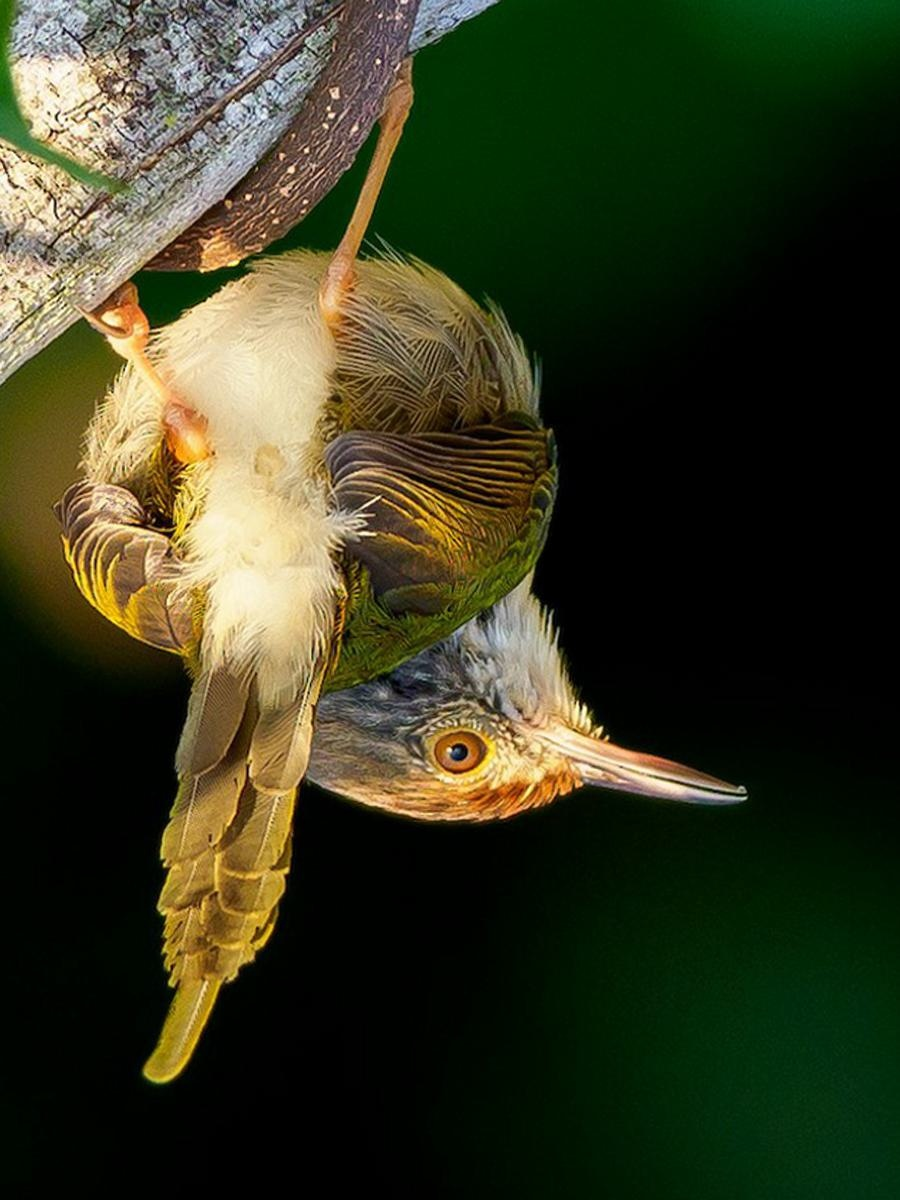tailorbird: (56, 57, 792, 1006)
